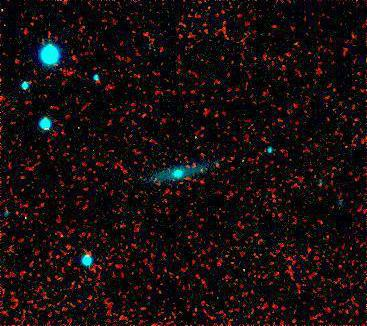star: (186, 152, 216, 182)
